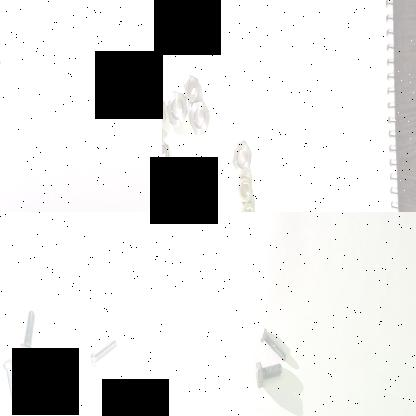Bolts: (255, 323, 291, 360), (16, 304, 38, 362), (252, 356, 283, 390), (0, 355, 18, 413), (88, 336, 118, 370)
NUTS: (228, 134, 256, 174), (186, 98, 210, 138), (166, 91, 188, 126), (180, 70, 200, 106), (233, 174, 255, 202), (170, 16, 187, 48), (162, 134, 172, 166), (237, 199, 259, 212)
